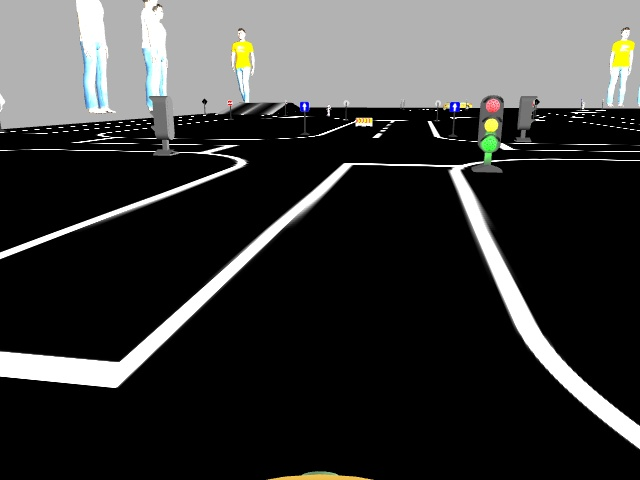ClosedRoadStand: (355, 117, 371, 126)
OneWay: (450, 101, 459, 112), (300, 101, 308, 111)
TrafficLight: (477, 94, 502, 152)
